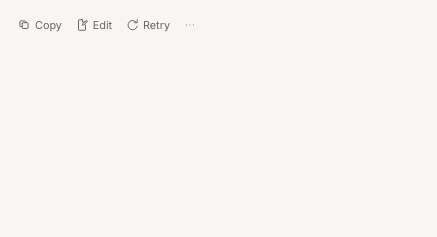
Test case: MessageActions › keeps the row to Copy, Edit and Retry
Click the button named "More actions for this message" at [190, 25], box x1=178 y1=14 x2=203 y2=36
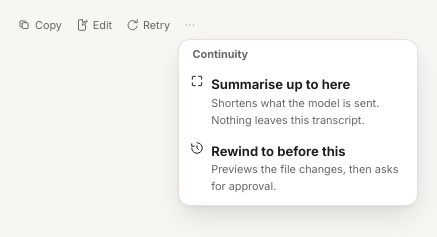
Expected: the number of menu items is 2, x1=183 y1=69 x2=413 y2=134; x1=183 y1=136 x2=413 y2=201
